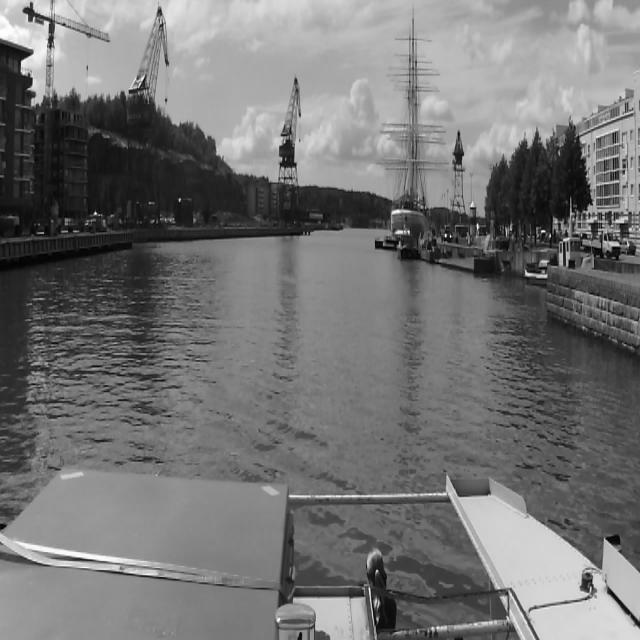ship: (376, 21, 449, 223), (522, 238, 594, 287), (374, 230, 410, 250), (422, 234, 442, 261), (398, 236, 420, 260)
